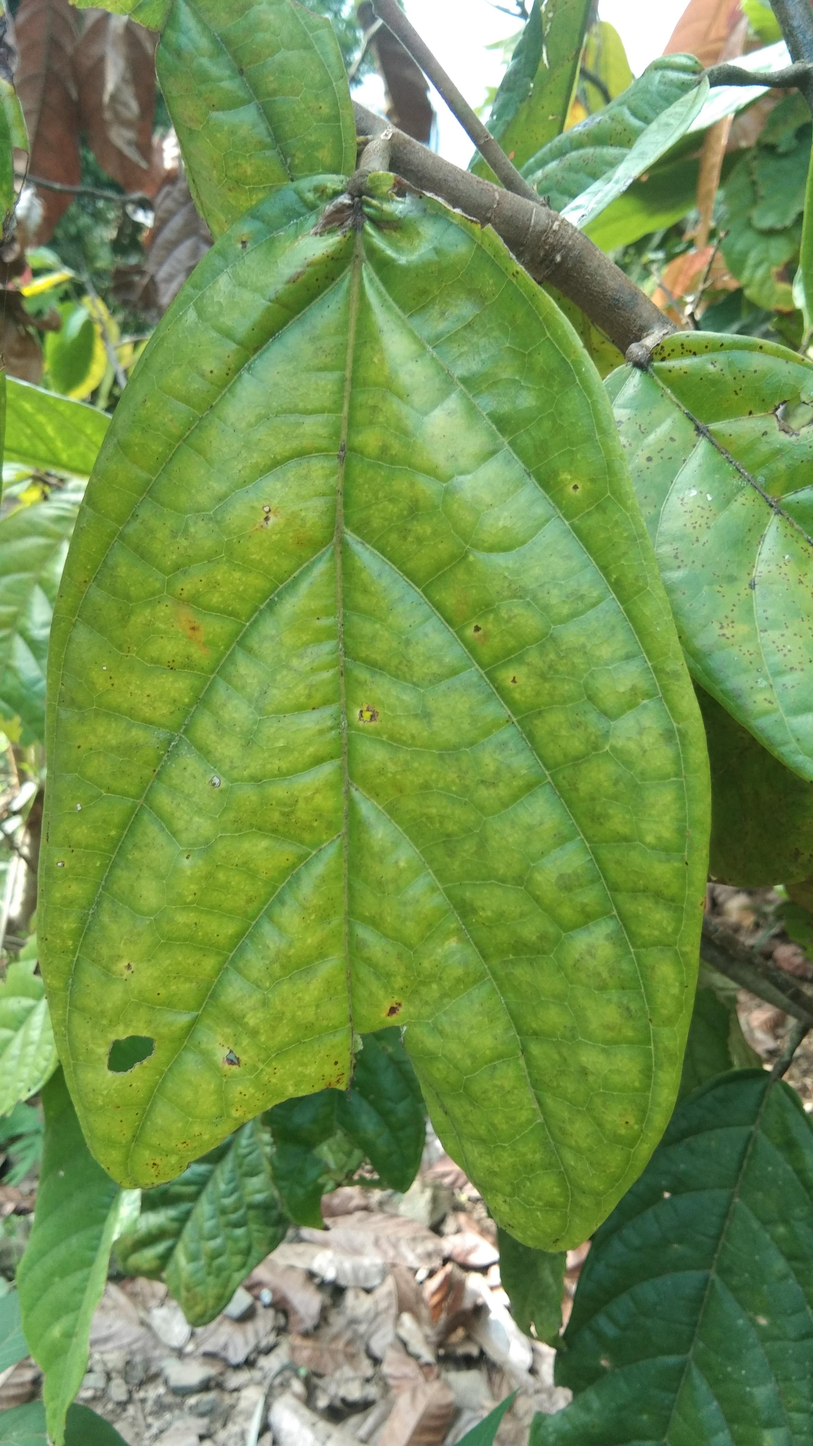deficiencia_potasio: (42, 170, 716, 1251)
